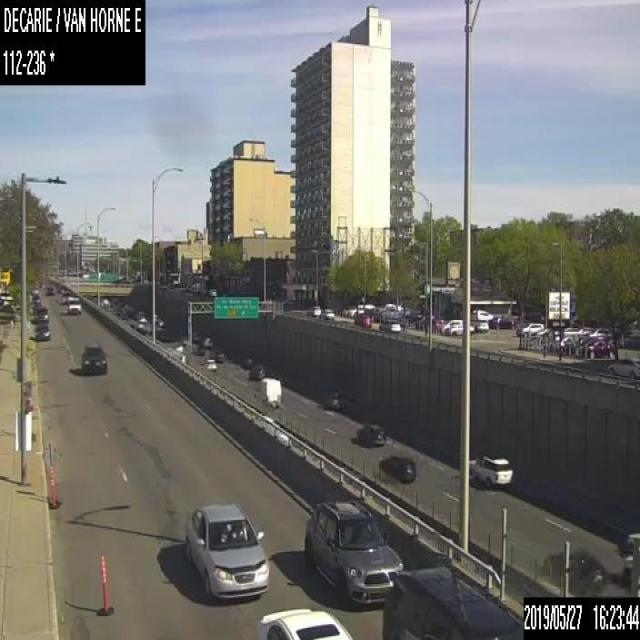construction: (43, 443, 60, 508), (96, 553, 112, 615)
vehicle: (302, 499, 403, 608), (381, 566, 522, 639), (181, 501, 270, 603), (254, 605, 352, 639), (544, 548, 606, 589), (467, 454, 513, 486), (619, 530, 639, 578), (380, 455, 415, 480), (79, 344, 107, 373), (255, 376, 281, 406), (354, 422, 384, 446), (607, 355, 639, 377), (582, 336, 615, 357), (470, 308, 488, 331), (323, 390, 343, 410), (33, 318, 51, 340), (516, 321, 544, 335), (488, 316, 516, 328), (446, 322, 473, 334), (439, 318, 462, 332), (0, 305, 15, 326), (377, 318, 401, 331), (248, 363, 266, 379), (587, 326, 613, 337), (32, 306, 50, 321), (352, 312, 372, 325), (66, 296, 81, 313), (57, 288, 70, 304), (306, 304, 320, 316), (212, 349, 224, 362), (202, 358, 215, 370), (320, 308, 334, 319), (44, 284, 54, 296), (203, 337, 211, 346), (208, 288, 215, 295)
